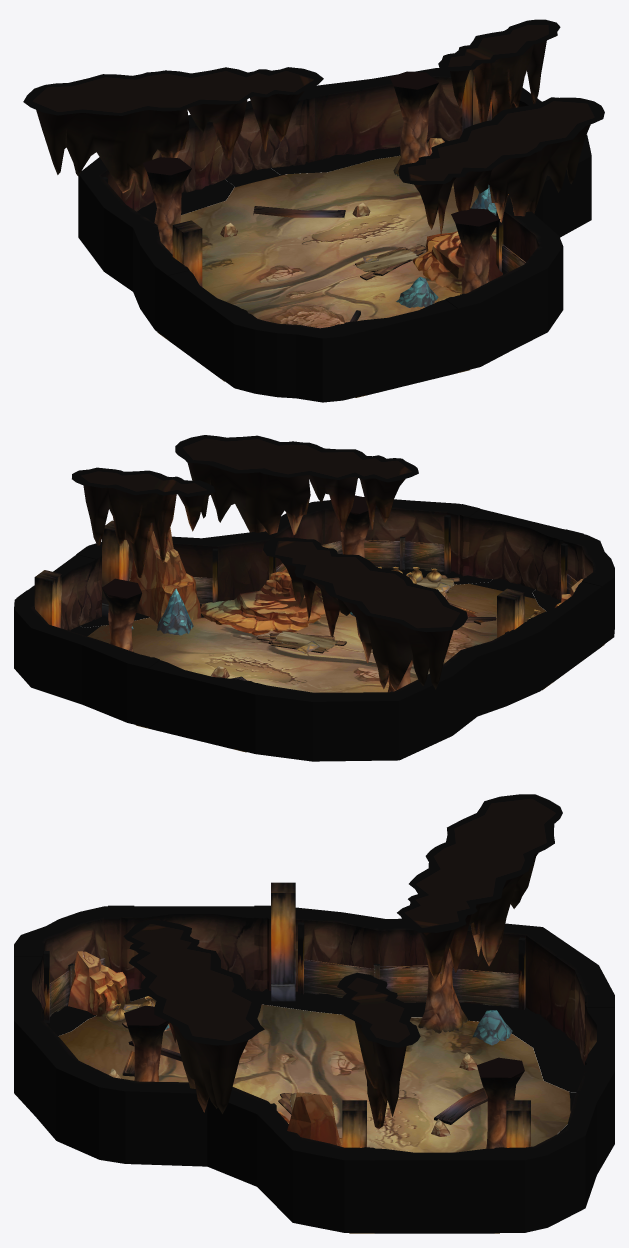
The model's file is Dungeon_011_BossRoom.fbx.
The picture shows the model from 3 angles, top to bottom: view 1: azimuth 30°, elevation 25°; view 2: azimuth 150°, elevation 25°; view 3: azimuth 270°, elevation 25°; orthographic projection. The views are drawn at different scales.
Parts seen in each view (by area): view 1: Dun_011_Room_003_wall, Dun_011_Room_003_ground, Dungeon_011_Iwa004_3, Dun_011_Door_002 (×3), Dungeon_011_Iwa004_2, Dungeon_011_Object_010 (×3), Dungeon_011_Iwa004_1, Dun_032_Object_005x, Dun_011_Room_003_shadow, Dungeon_011_Iwa003, Dungeon_032_Komono_03, Dungeon_011_Object_012 (+1 smaller); view 2: Dun_011_Room_003_wall, Dun_011_Door_002 (×4), Dun_011_Room_003_ground, Dungeon_011_Iwa004_2, Dungeon_011_Iwa004_3, Dun_032_Object_005x, Dungeon_011_Iwa004_1, Dungeon_011_Iwa003, Dungeon_011_Iwa001, Dungeon_011_Object_010 (×2), Dungeon_032_Komono_03, Dun_011_Room_003_shadow (+2 smaller); view 3: Dun_011_Room_003_wall, Dun_011_Room_003_ground, Dun_011_Door_002 (×4), Dungeon_011_Iwa004_3, Dun_032_Object_005x, Dungeon_011_Iwa004_2, Dungeon_011_Object_010 (×3), Dun_011_Room_003_shadow, Dungeon_011_Iwa004_1, Dungeon_011_Iwa002, Dungeon_011_Iwa001, Dungeon_011_Object_012.
Part boxes in pixels (<box>): Dun_011_Room_003_wall: <box>78,68,591,402</box>; Dun_011_Room_003_ground: <box>157,155,496,397</box>; Dungeon_011_Iwa004_3: <box>23,67,323,195</box>; Dun_011_Door_002 (×3): <box>157,89,476,395</box>; Dungeon_011_Iwa004_2: <box>398,97,604,235</box>; Dungeon_011_Object_010 (×3): <box>142,71,500,293</box>; Dungeon_011_Iwa004_1: <box>438,19,560,122</box>; Dun_032_Object_005x: <box>103,69,525,325</box>; Dun_011_Room_003_shadow: <box>137,139,448,222</box>; Dungeon_011_Iwa003: <box>412,231,502,293</box>; Dungeon_032_Komono_03: <box>353,245,426,280</box>; Dungeon_011_Object_012: <box>396,276,438,307</box>; Dun_011_Room_003_wall: <box>14,497,614,761</box>; Dun_011_Door_002 (×4): <box>17,504,611,749</box>; Dun_011_Room_003_ground: <box>87,583,604,752</box>; Dungeon_011_Iwa004_2: <box>175,435,418,534</box>; Dungeon_011_Iwa004_3: <box>263,537,467,690</box>; Dun_032_Object_005x: <box>34,515,577,692</box>; Dungeon_011_Iwa004_1: <box>72,467,215,578</box>; Dungeon_011_Iwa003: <box>200,571,325,635</box>; Dungeon_011_Iwa001: <box>130,528,201,624</box>; Dungeon_011_Object_010 (×2): <box>102,495,369,651</box>; Dungeon_032_Komono_03: <box>256,631,346,655</box>; Dun_011_Room_003_shadow: <box>79,568,560,627</box>; Dun_011_Room_003_wall: <box>14,906,614,1232</box>; Dun_011_Room_003_ground: <box>58,997,570,1233</box>; Dun_011_Door_002 (×4): <box>14,905,614,1233</box>; Dungeon_011_Iwa004_3: <box>397,794,562,985</box>; Dun_032_Object_005x: <box>44,882,530,1147</box>; Dungeon_011_Iwa004_2: <box>123,919,264,1113</box>; Dungeon_011_Object_010 (×3): <box>124,950,524,1148</box>; Dun_011_Room_003_shadow: <box>49,988,584,1133</box>; Dungeon_011_Iwa004_1: <box>337,972,420,1129</box>; Dungeon_011_Iwa002: <box>68,951,130,1016</box>; Dungeon_011_Iwa001: <box>287,1092,342,1146</box>; Dungeon_011_Object_012: <box>472,1010,512,1045</box>.
Size of what is drawn, in the model's own units: 16.01 by 5.11 by 15.
